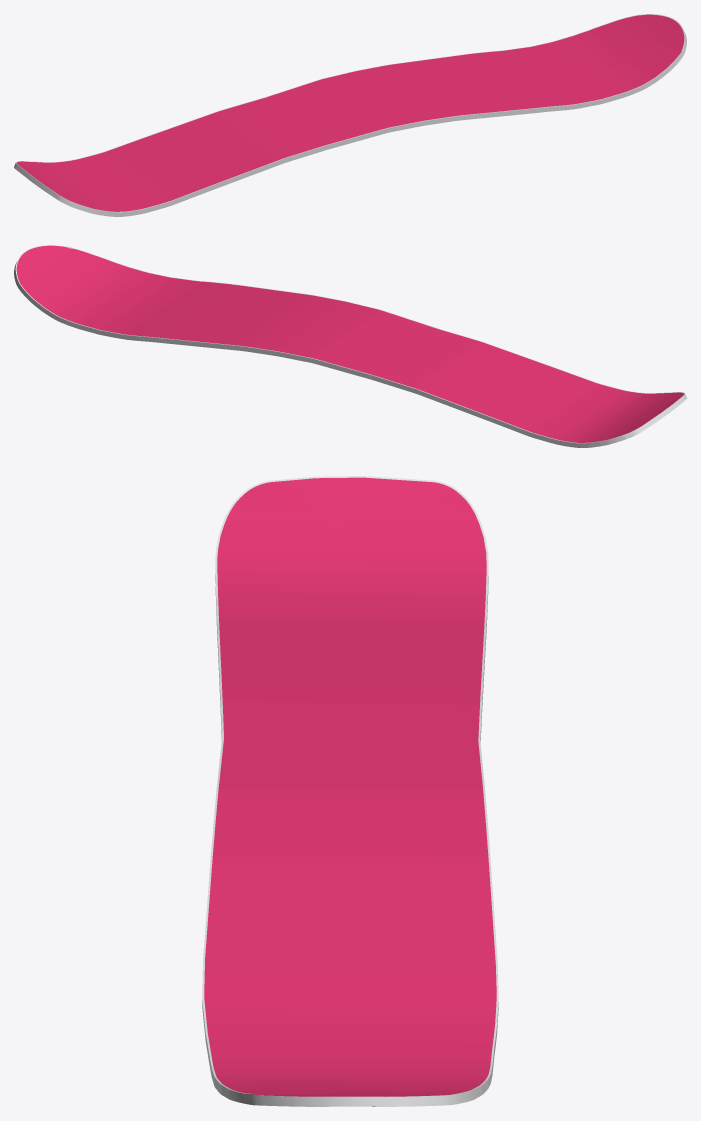
Rendered from board_tapered_camber.gltf.
The picture shows the model from 3 angles, top to bottom: view 1: azimuth 30°, elevation 25°; view 2: azimuth 150°, elevation 25°; view 3: azimuth 270°, elevation 25°; orthographic projection. The views are drawn at different scales.
Visible parts, largest first — view 1: board-top, board-edge; view 2: board-top, board-edge; view 3: board-top, board-edge.
Part boxes in pixels (<box>): board-top: <box>17,14,684,211</box>; board-edge: <box>14,14,686,216</box>; board-top: <box>16,245,683,442</box>; board-edge: <box>14,245,686,447</box>; board-top: <box>204,477,496,1096</box>; board-edge: <box>202,476,498,1106</box>.
Bounding box in the file's own units: 1.47 × 0.0652 × 0.2932.
